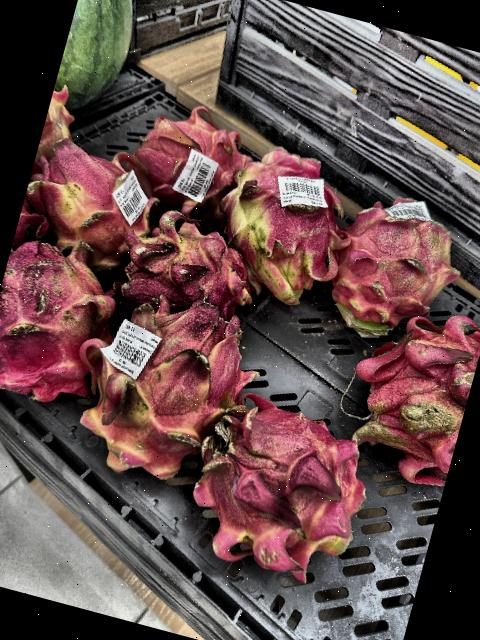buah-naga-belum-matang: (181, 360, 390, 588), (73, 272, 252, 500), (198, 136, 364, 316), (334, 294, 480, 479), (320, 178, 461, 342), (0, 234, 126, 413), (19, 130, 169, 280), (115, 200, 260, 322)
buah-naga-matang: (102, 95, 259, 238)
